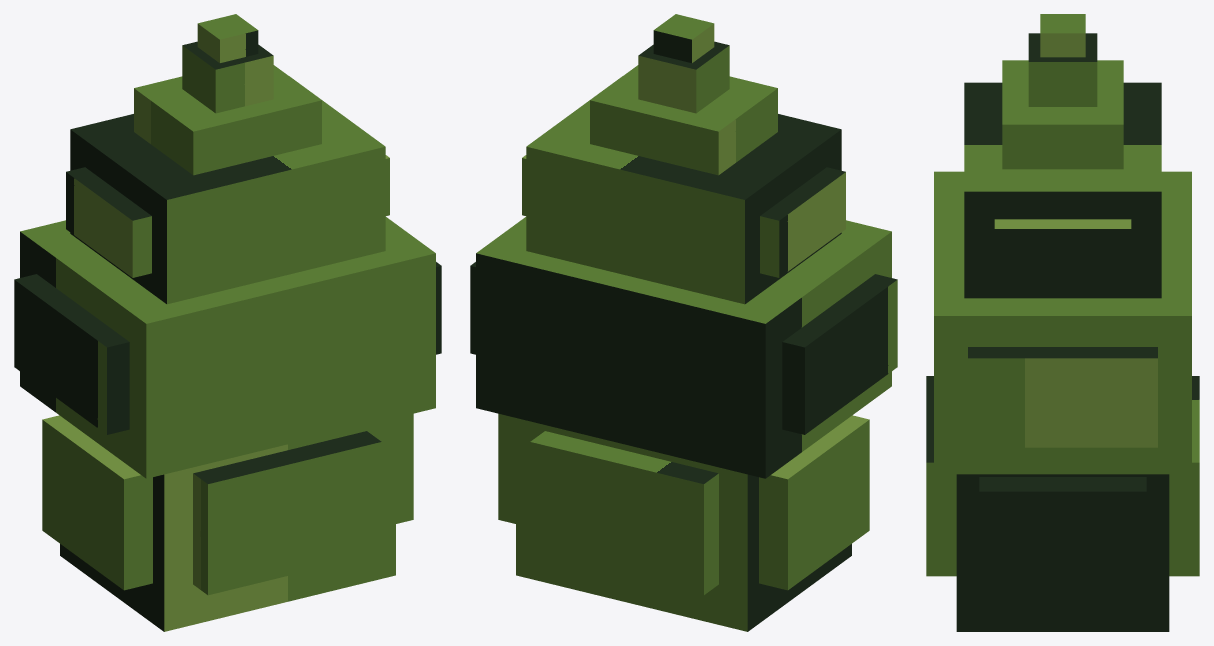
Rendered from avocado.gltf.
3 renders of one model, left to right at view 1: azimuth 30°, elevation 25°; view 2: azimuth 150°, elevation 25°; view 3: azimuth 270°, elevation 25°, orthographic. The views are drawn at different scales.
Parts seen in each view (by area): view 1: avocado_skin, stem; view 2: avocado_skin, stem; view 3: avocado_skin, stem.
Part boxes in pixels (<box>): avocado_skin: <box>14,65,441,631</box>; stem: <box>182,14,273,113</box>; avocado_skin: <box>470,65,897,631</box>; stem: <box>638,14,729,113</box>; avocado_skin: <box>926,60,1199,631</box>; stem: <box>1028,14,1097,106</box>.
Bounding box in the file's own units: 0.65 × 1 × 0.45.
Materials: 1 (1 with a texture image).
